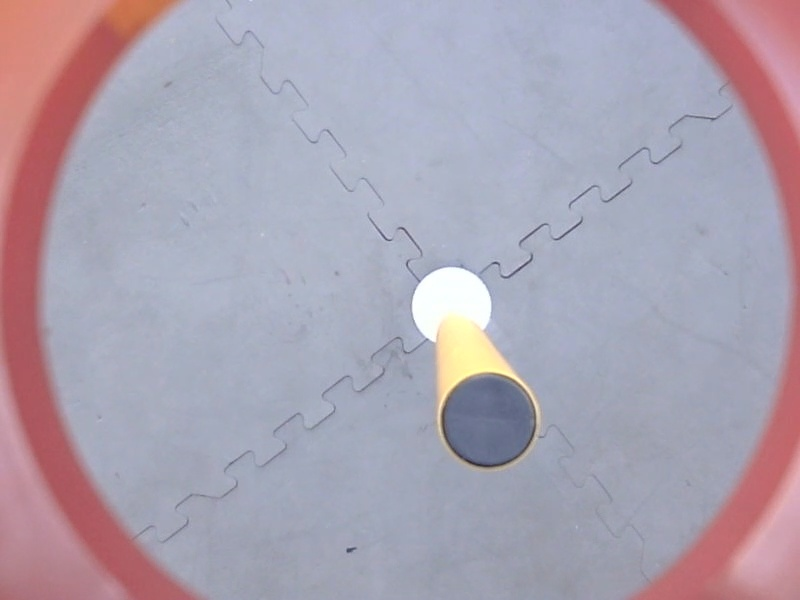tip: (432, 366, 546, 478)
